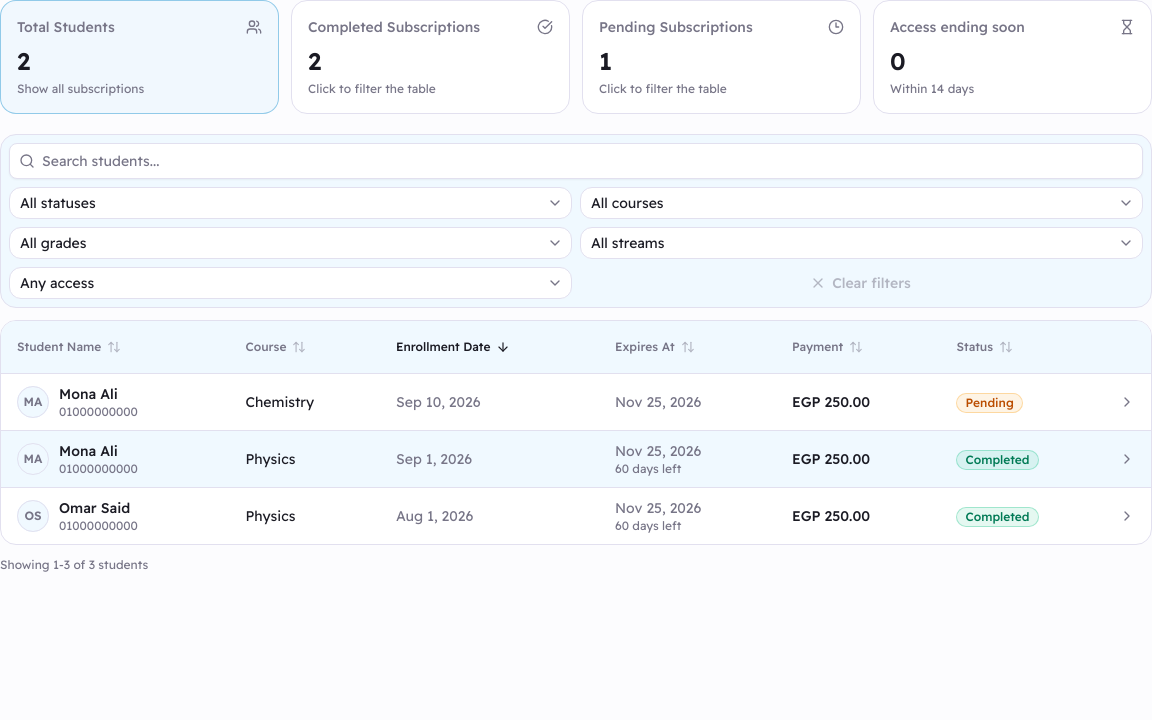
Test: StudentRoster › opens the student panel with every subscription for that student
Click the button with aria-label "View details for Mona Ali". click: {"x": 88, "y": 394}
box: [59, 384, 118, 404]
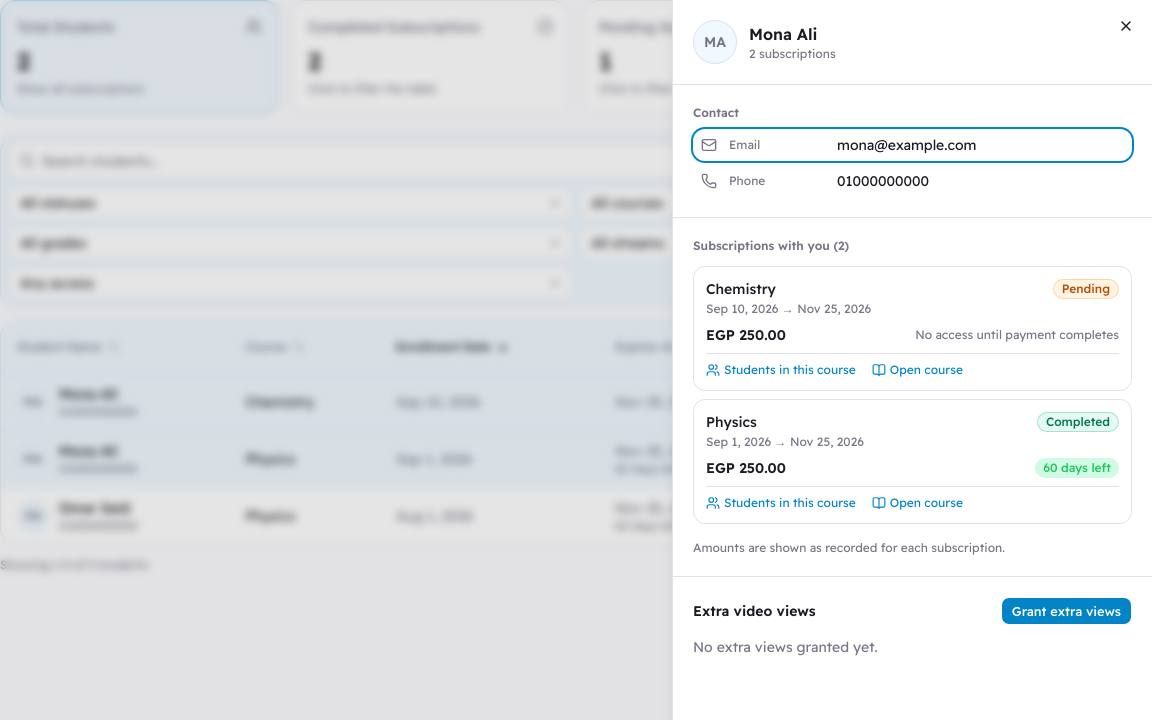
Now the heading "Mona Ali" is shown, box [749, 24, 818, 44]
Now the text "Physics" is shown, box [706, 413, 757, 431]
Now the text "Chemistry" is shown, box [706, 280, 776, 298]
